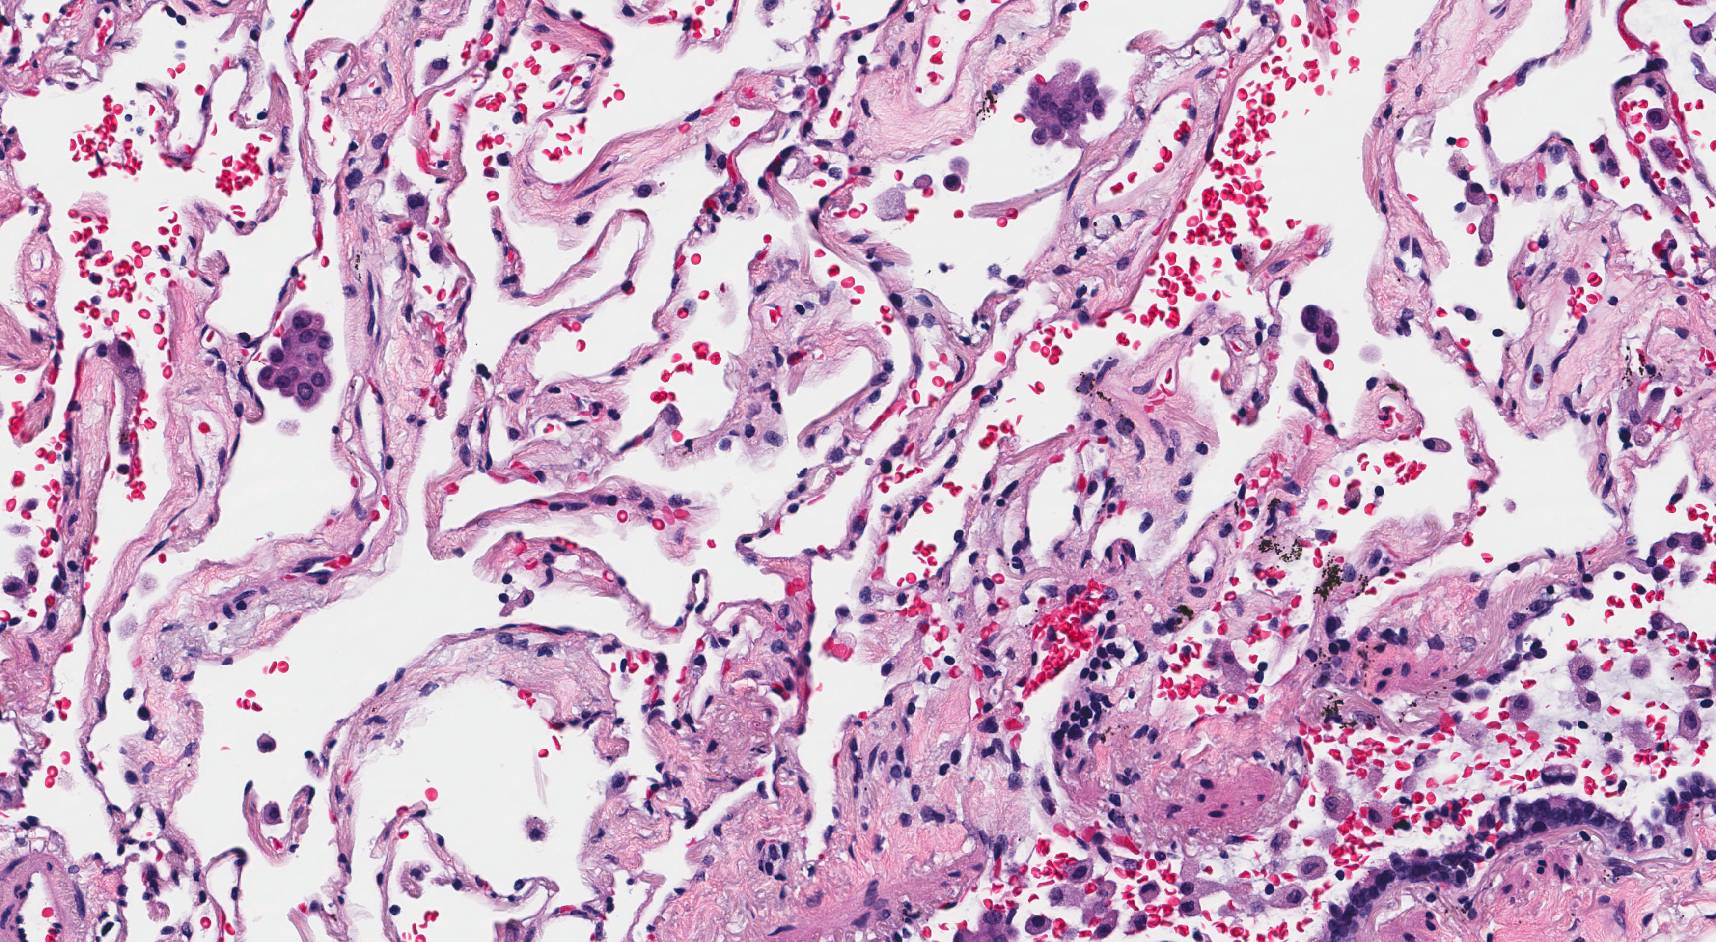stas: (257, 310, 332, 414), (1025, 68, 1111, 145)
